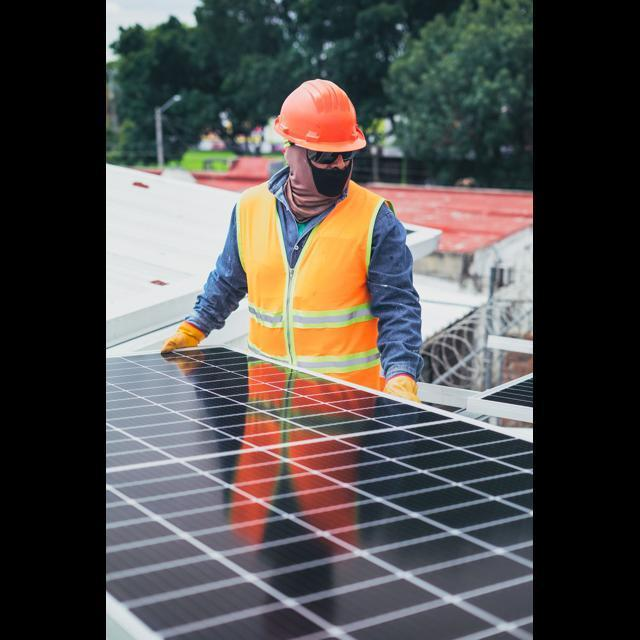helmet: (277, 70, 371, 160)
safety_vest: (226, 165, 384, 382)
